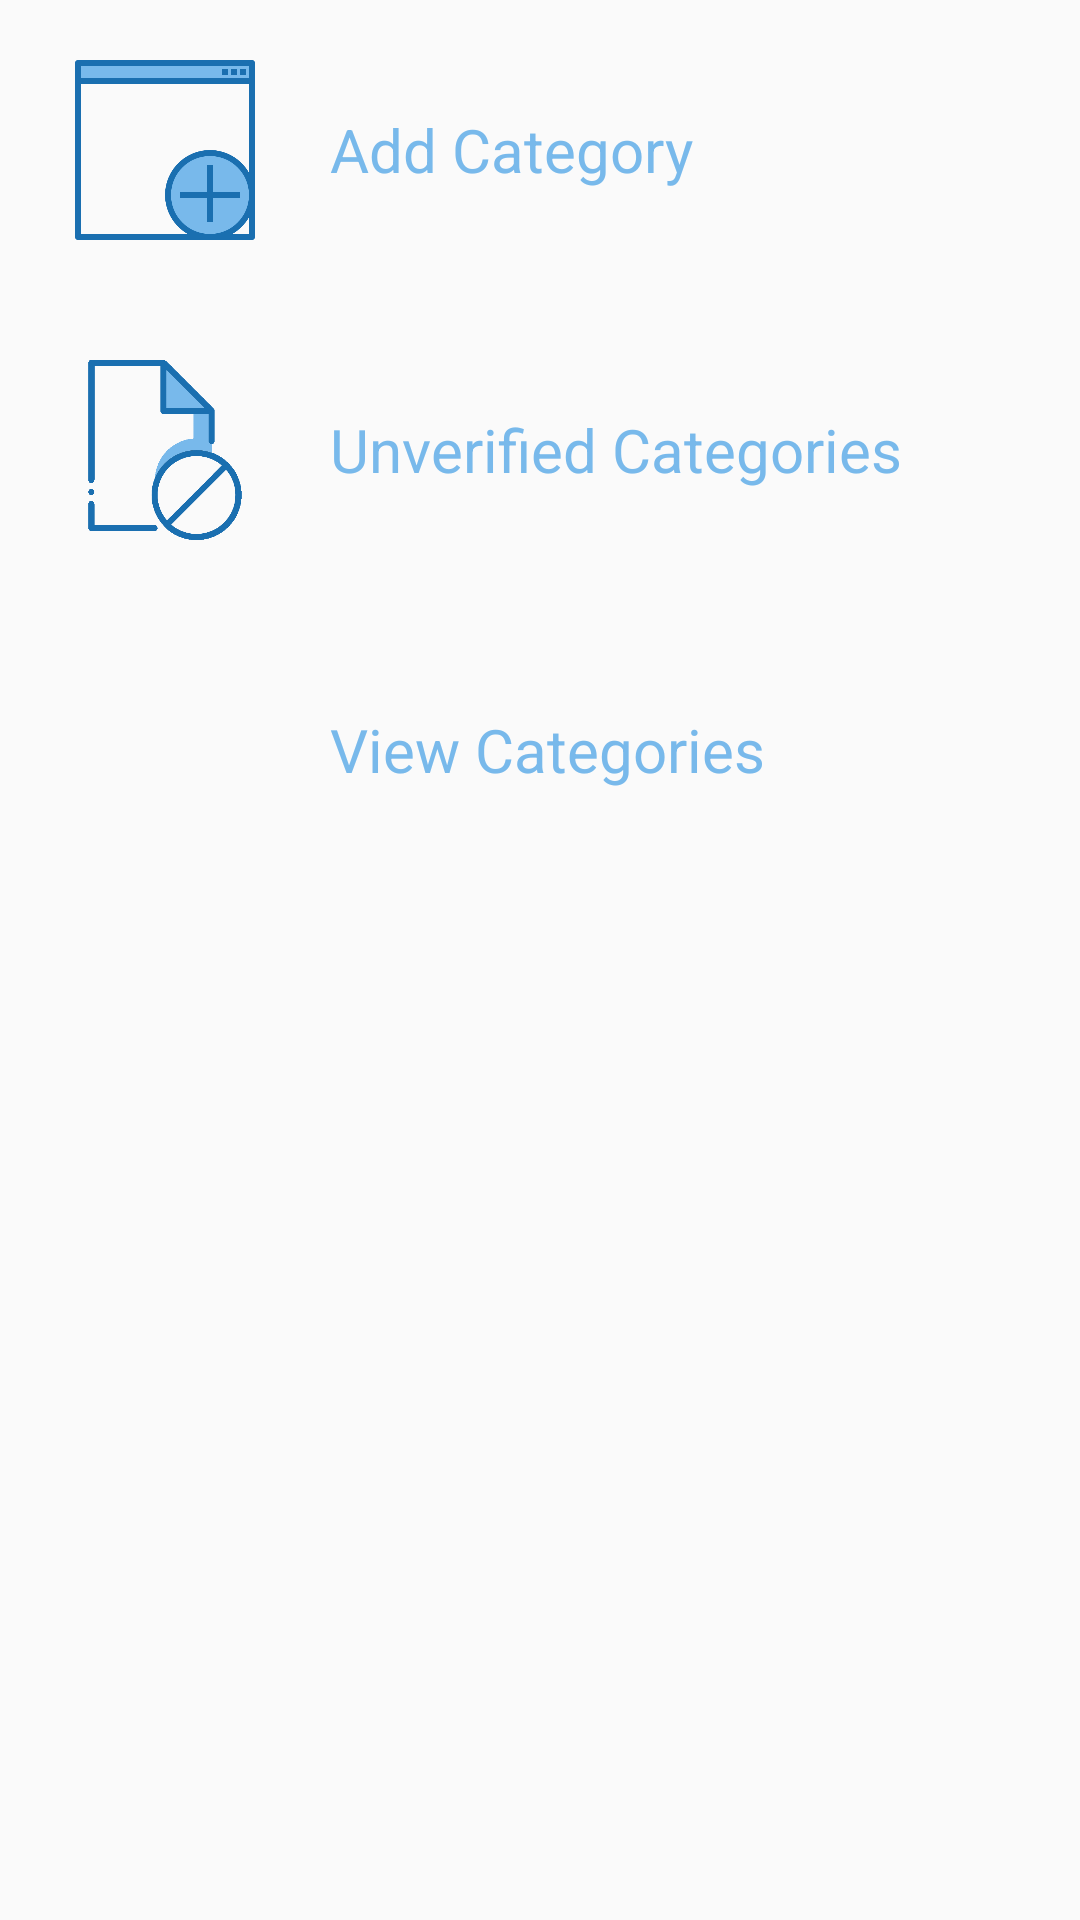

Screen size 1080*1920. Icon name, then its center in pixels as (x,y):
neww: (165,150)
